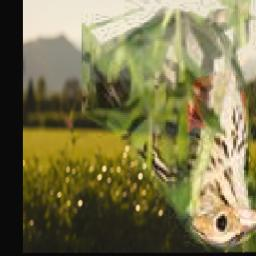Sparrow: (81, 0, 256, 252)
